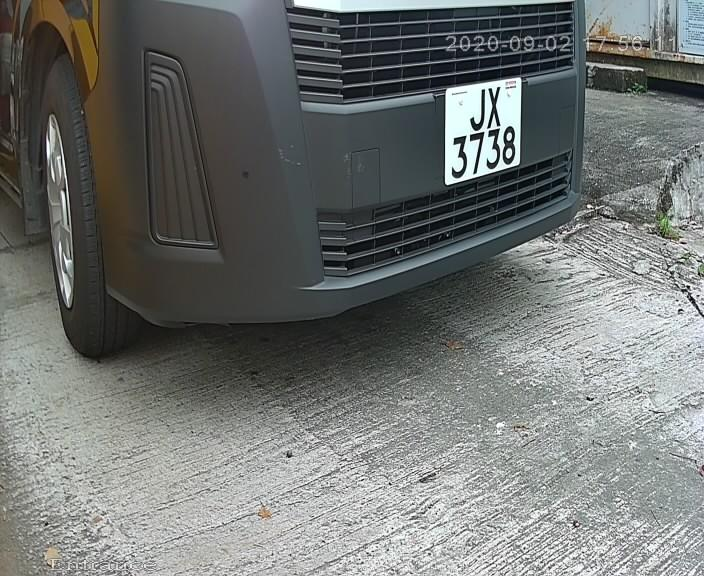Car: (26, 3, 642, 389)
License Plate: (431, 65, 529, 201)
